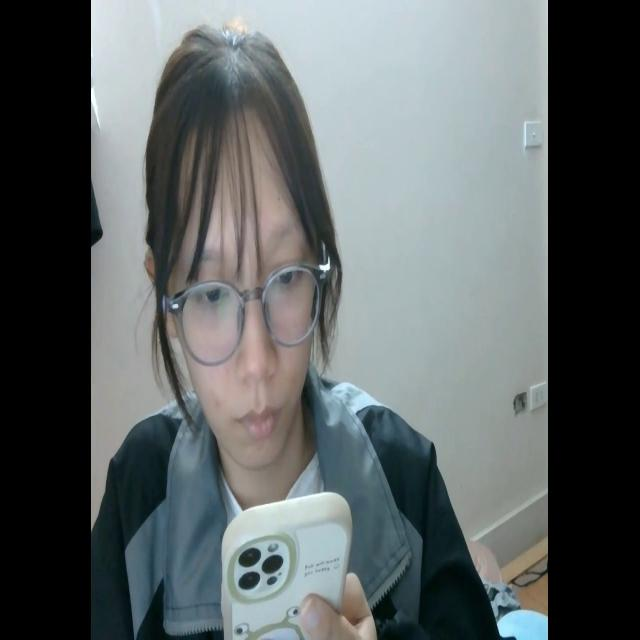phone: (217, 483, 353, 640)
student: (91, 21, 500, 640)
